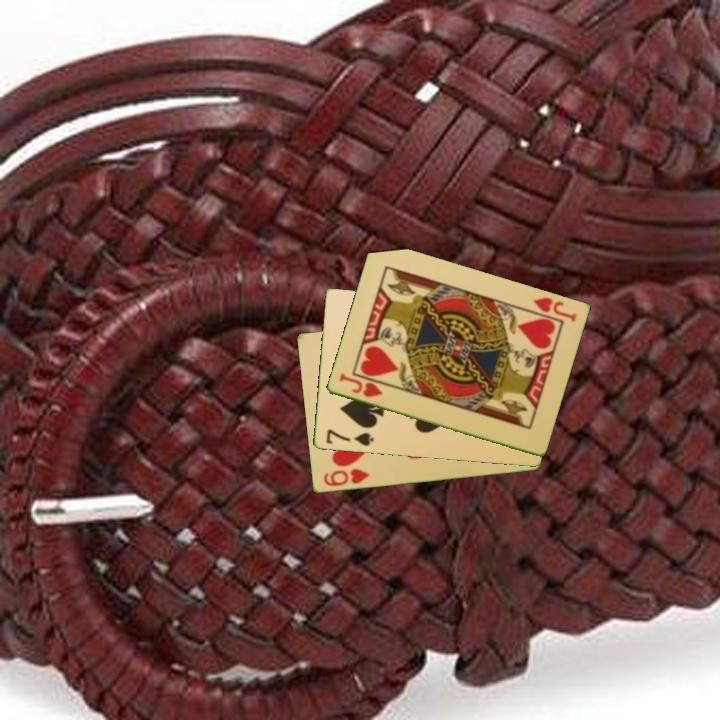6h: (320, 465, 372, 490)
7s: (322, 426, 376, 449)
Jh: (529, 294, 579, 325), (335, 370, 385, 400)
